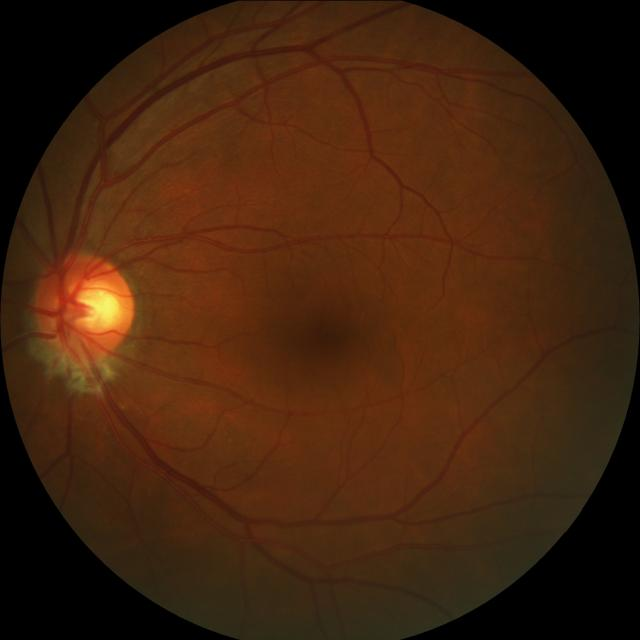OC: (61, 278, 120, 332)
OD: (30, 250, 133, 364)
